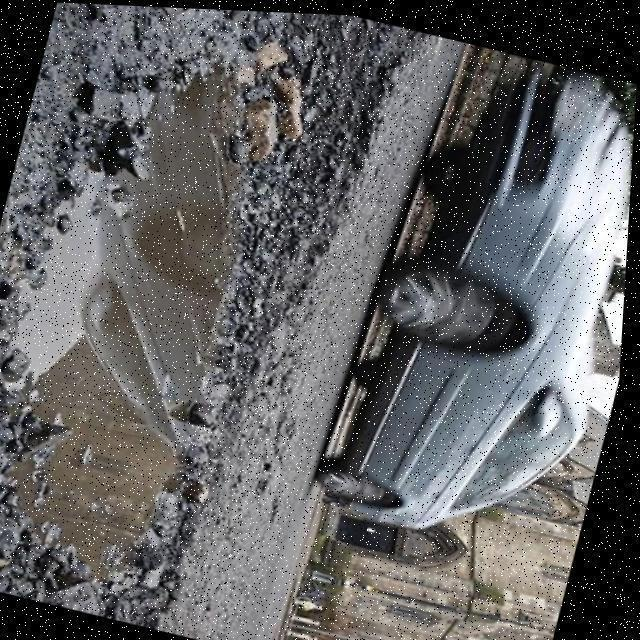Pothole: (0, 6, 431, 638)
